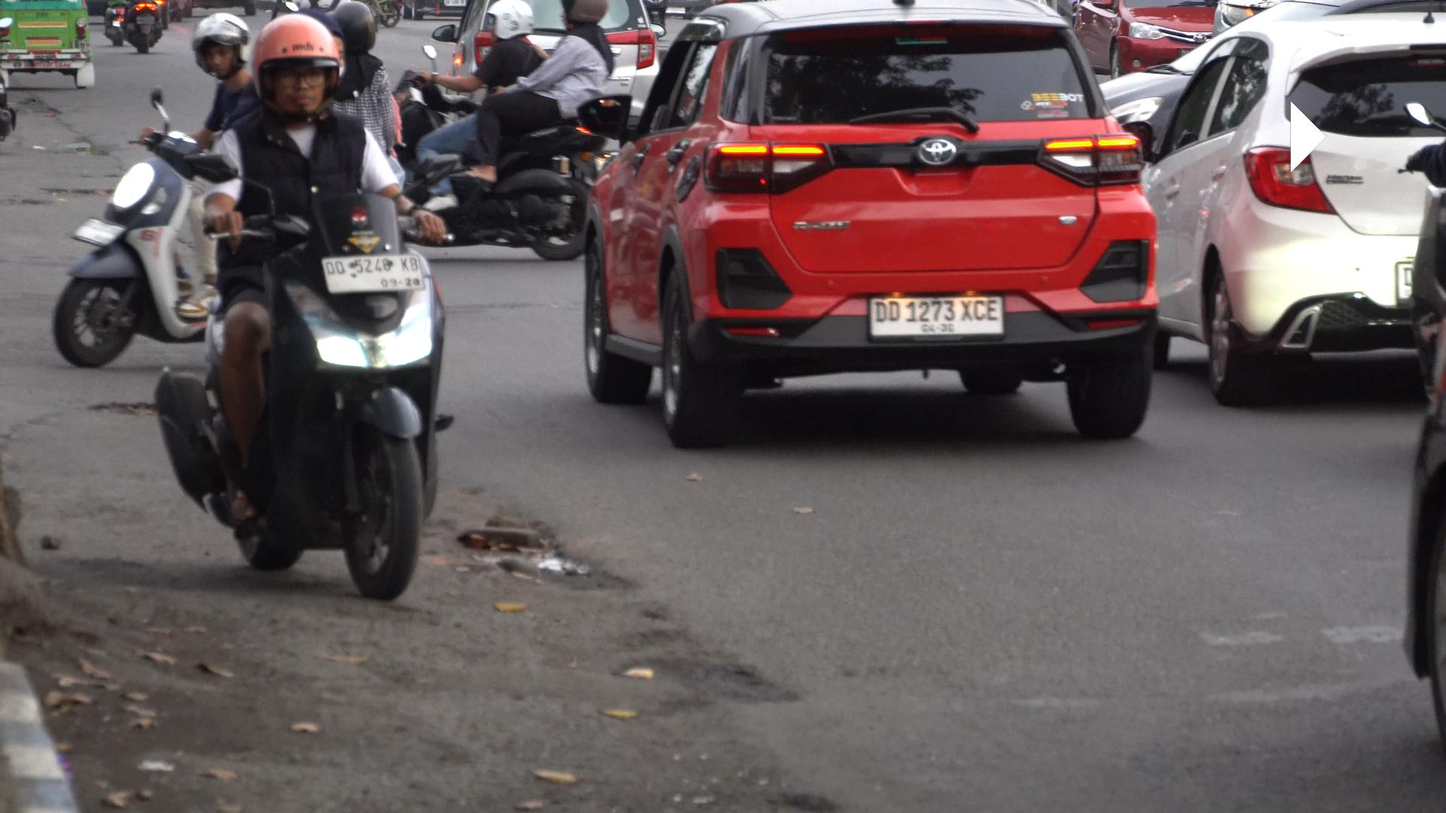number-plate: (316, 253, 426, 292)
